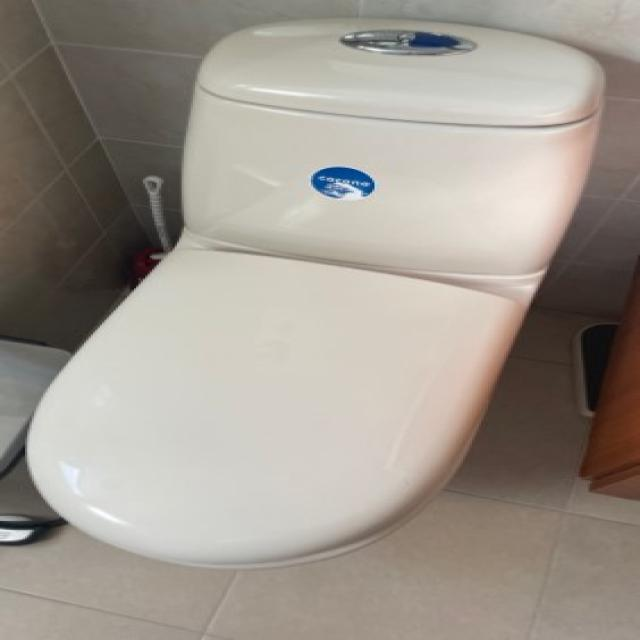toilet: (23, 17, 606, 570)
